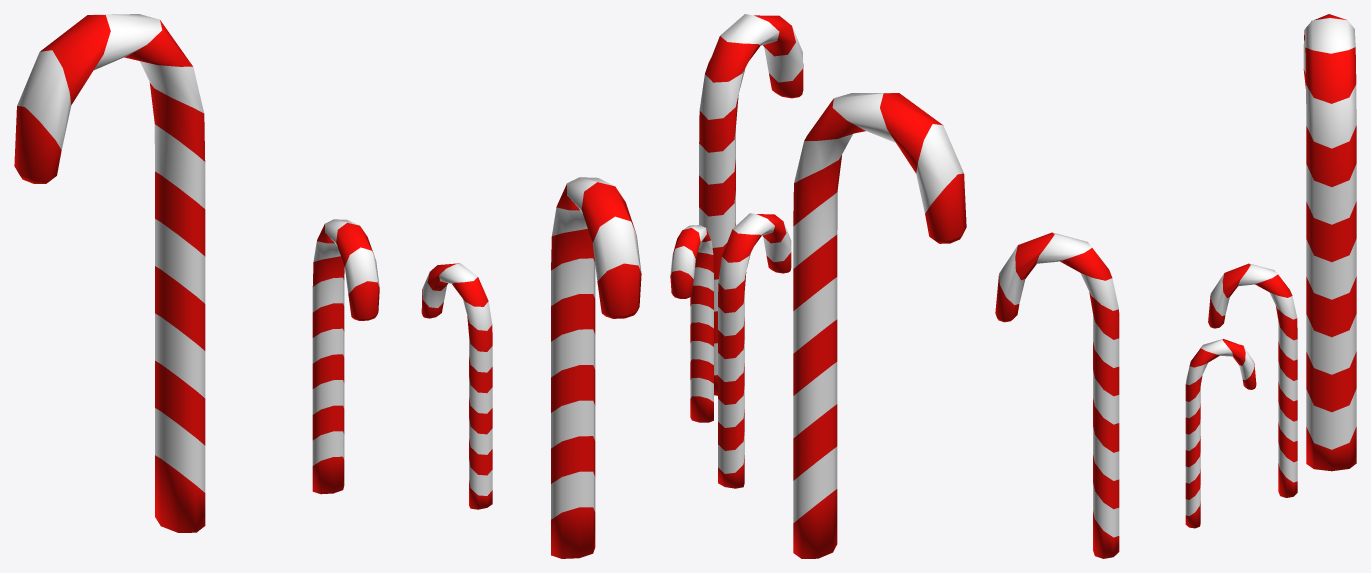
Rendered from christmax_candies.fbx.
3 views of the same model, side by side, from view 1: azimuth 30°, elevation 25°; view 2: azimuth 150°, elevation 25°; view 3: azimuth 270°, elevation 25° (orthographic). The views are drawn at different scales.
Parts seen in each view (by area): view 1: Cylinder, Cylinder.003, Cylinder.001, Cylinder.002; view 2: Cylinder, Cylinder.003, Cylinder.001, Cylinder.002; view 3: Cylinder, Cylinder.003, Cylinder.001, Cylinder.002.
Part boxes in pixels (bbox=[...]): Cylinder: bbox=[14, 14, 205, 532]; Cylinder.003: bbox=[551, 177, 641, 558]; Cylinder.001: bbox=[312, 219, 379, 494]; Cylinder.002: bbox=[421, 263, 492, 509]; Cylinder: bbox=[793, 93, 966, 558]; Cylinder.003: bbox=[699, 14, 803, 395]; Cylinder.001: bbox=[718, 213, 791, 488]; Cylinder.002: bbox=[670, 225, 713, 422]; Cylinder: bbox=[1303, 14, 1356, 471]; Cylinder.003: bbox=[995, 232, 1119, 558]; Cylinder.001: bbox=[1208, 263, 1297, 497]; Cylinder.002: bbox=[1185, 339, 1256, 528].
Size of the model in its own units: 7.08 by 8.19 by 6.44.
1 material, 1 textured.
